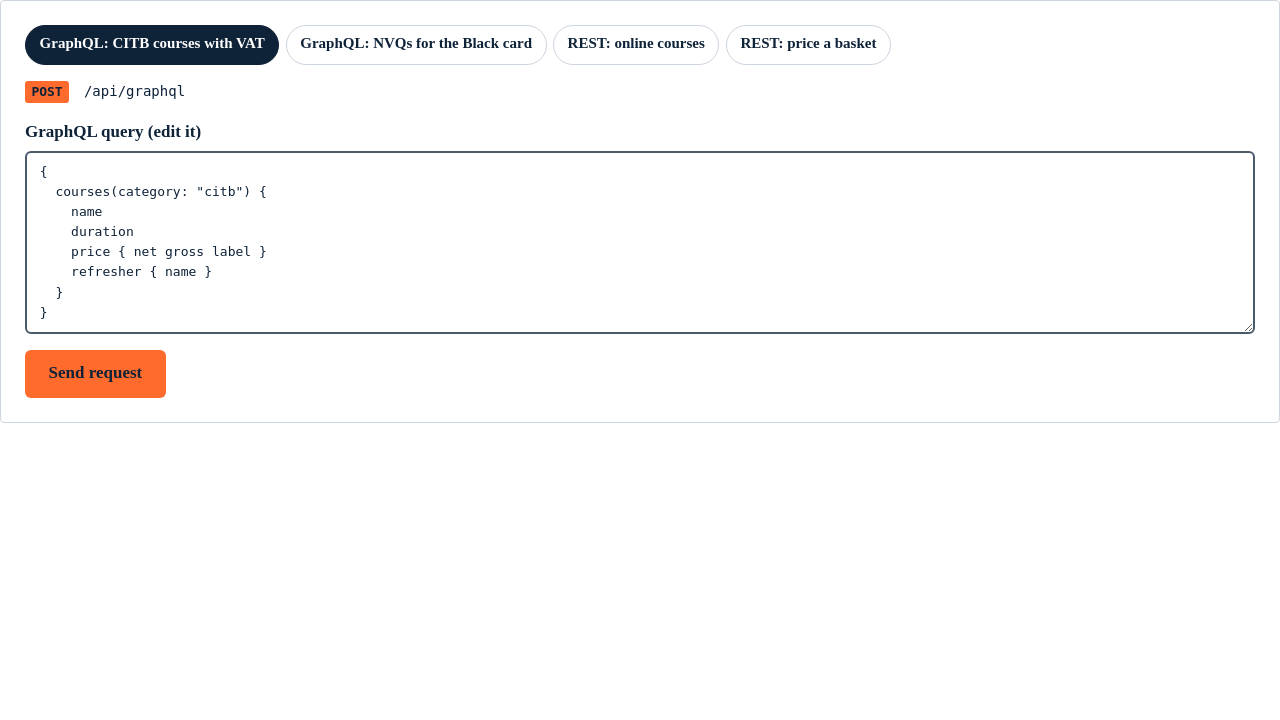
Test: <ApiPlayground /> › sends the GraphQL query as JSON and shows the reply
Click the button "Send request" at (95, 374), box [25,350,166,398]
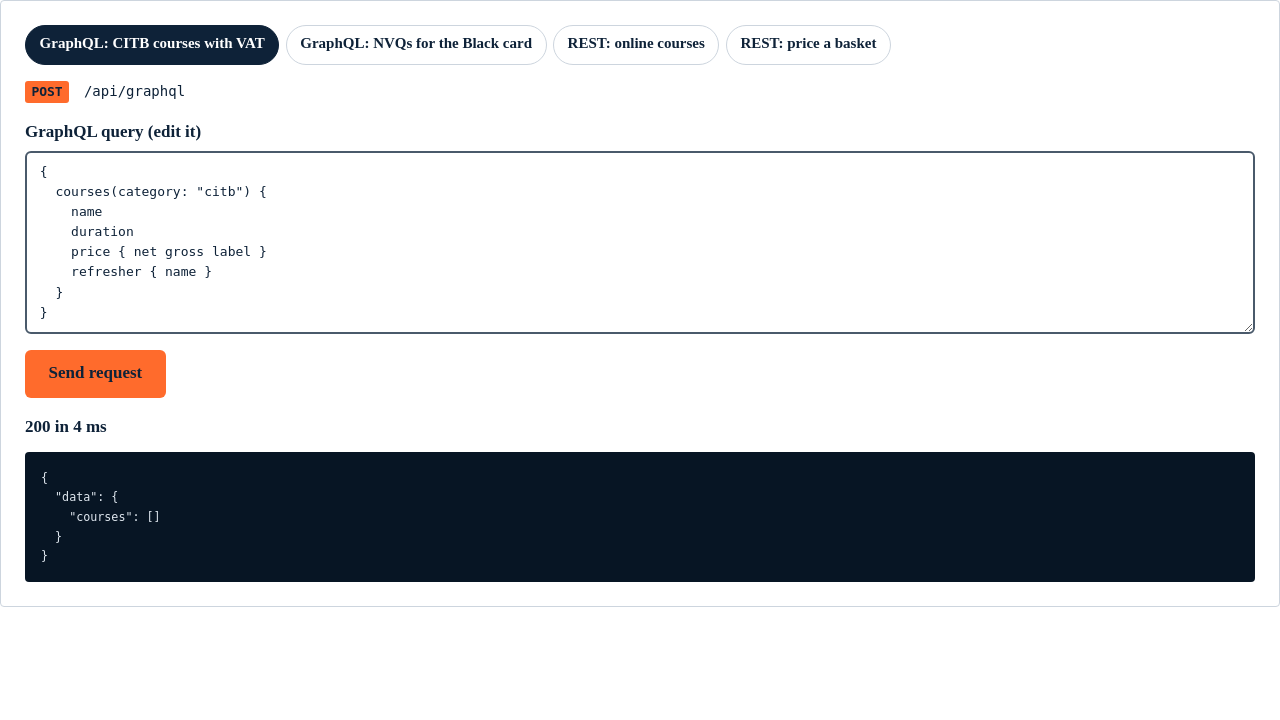
Expected: the text "200 in 4 ms" is shown, [25,417,107,436]
